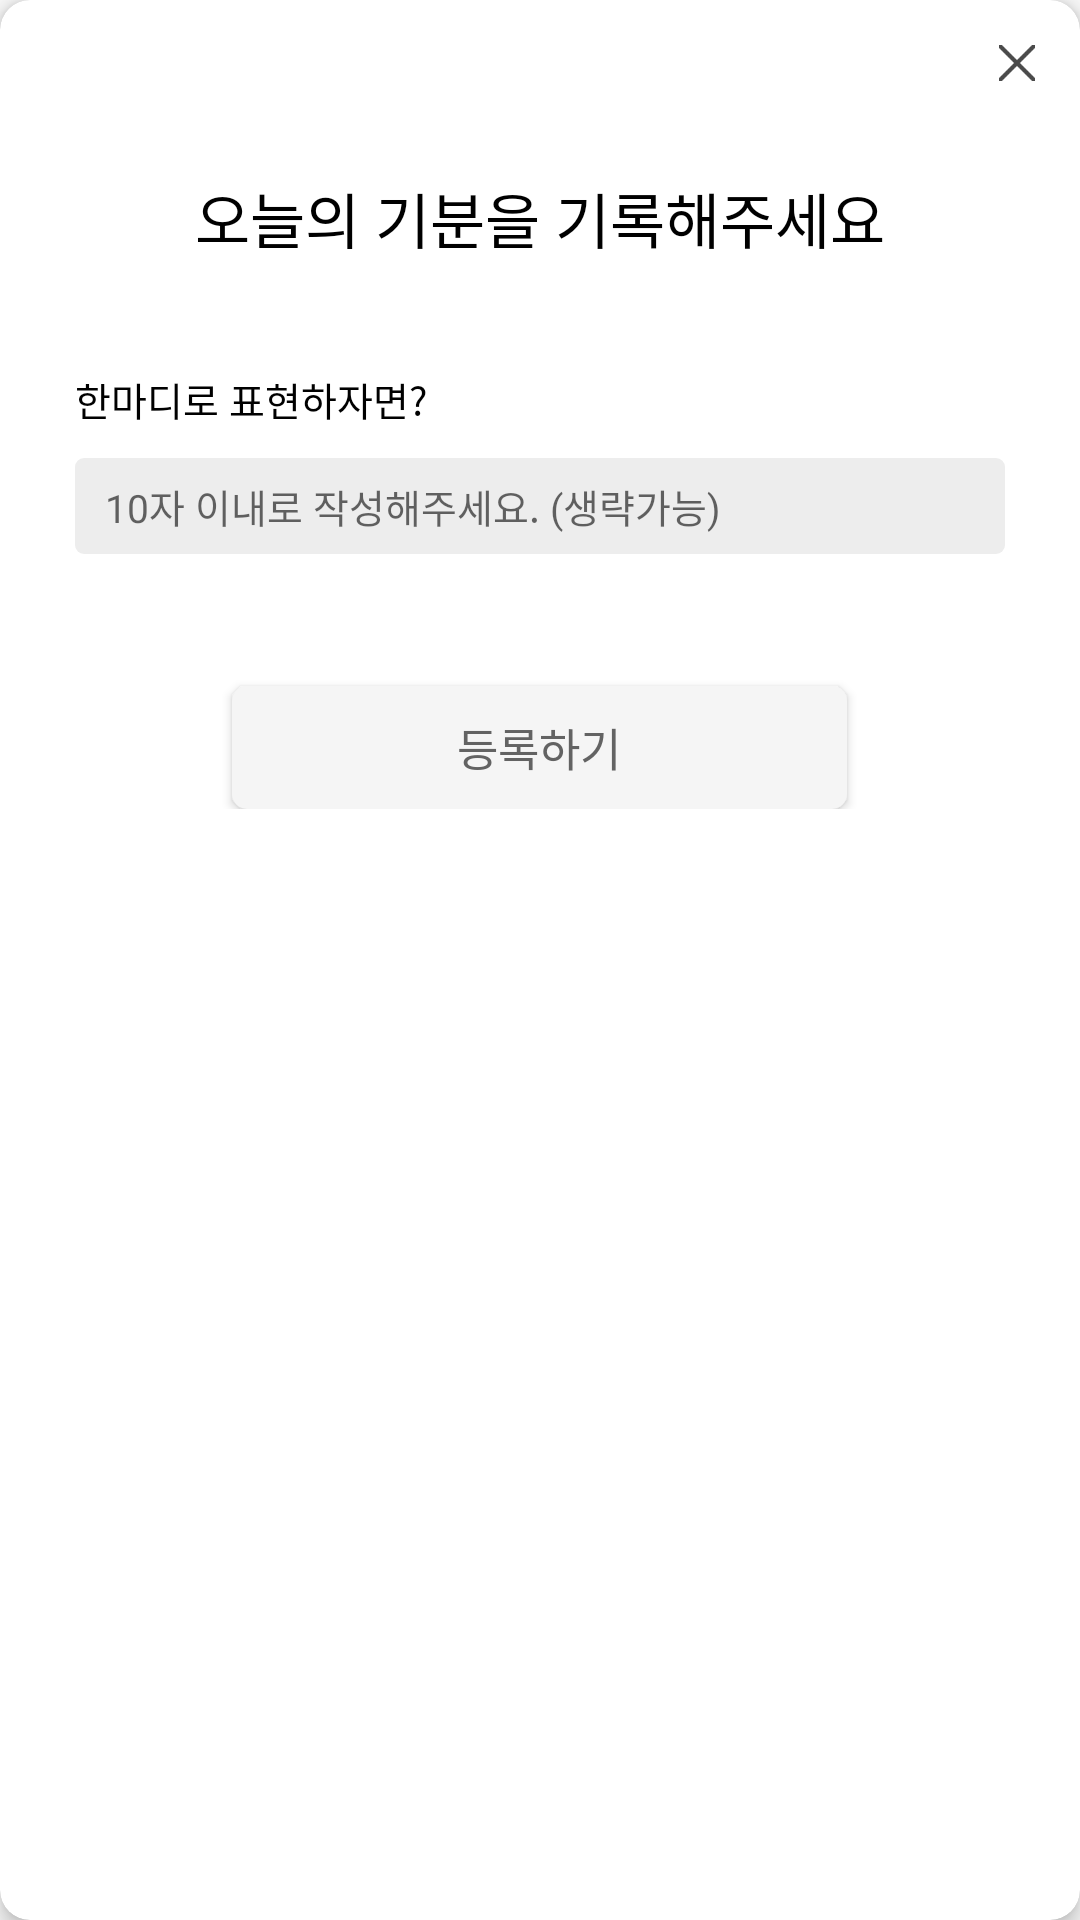

Where to tap for icons on this 1080x1920 app screen, as [x,y]:
cancel: [1017,63]
